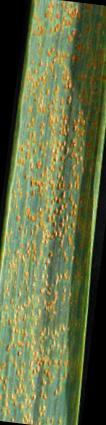Wheat: (7, 232, 68, 420), (40, 8, 106, 111), (29, 118, 91, 226)
